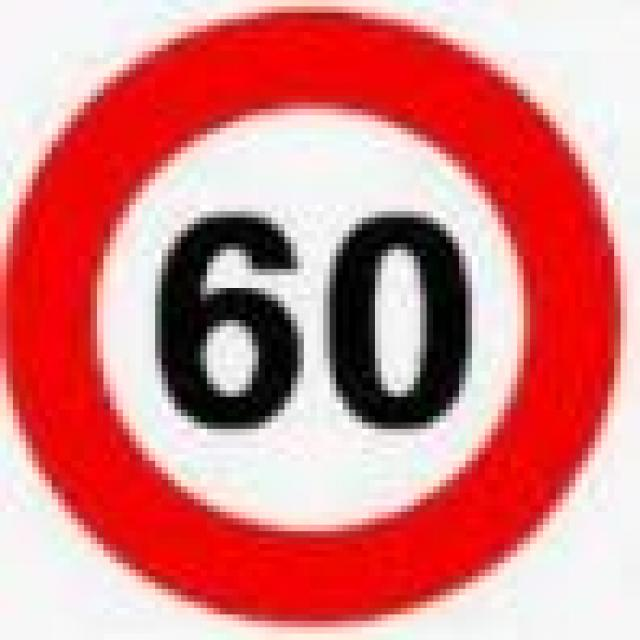speed_limit_60: (0, 0, 621, 634)
